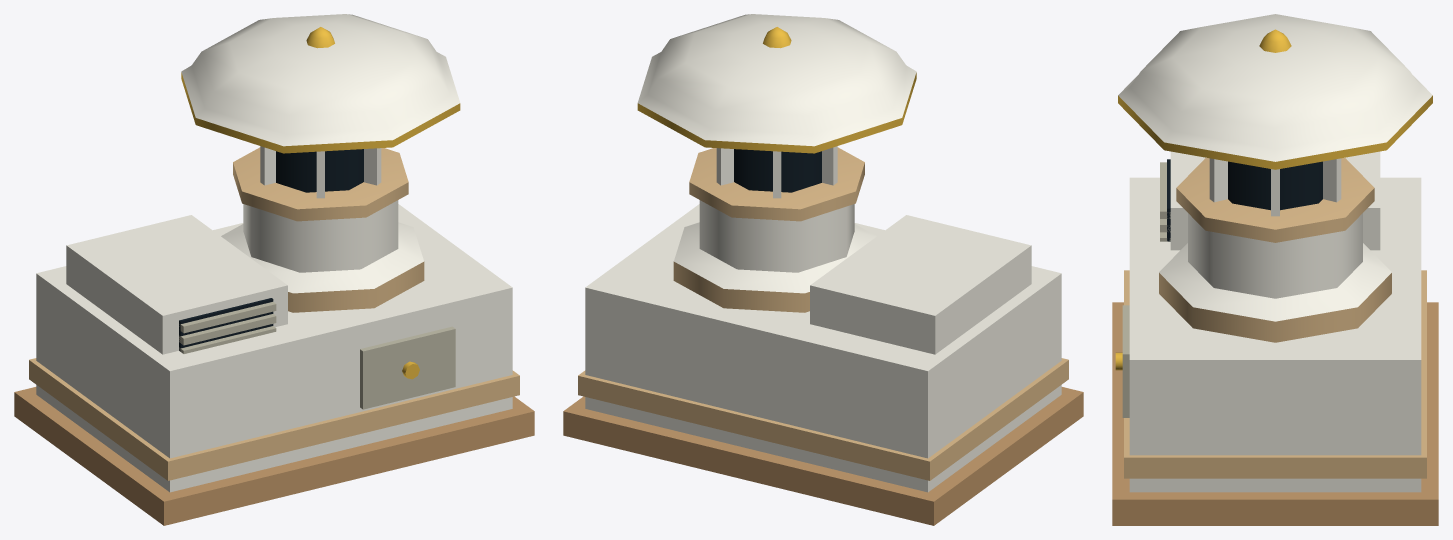
Rendered from vent.lod1.glb.
3 views of the same model, side by side, from view 1: azimuth 30°, elevation 25°; view 2: azimuth 150°, elevation 25°; view 3: azimuth 270°, elevation 25° (orthographic). The views are drawn at different scales.
Parts seen in each view (by area): view 1: vent_lod1; view 2: vent_lod1; view 3: vent_lod1.
Boxes of the visible parts, box(x1,y1,x2,y2) form: vent_lod1: box(14, 14, 534, 525); vent_lod1: box(563, 14, 1083, 525); vent_lod1: box(1112, 14, 1438, 525).
Size of the model in its own units: 0.8 by 0.8 by 0.56.
